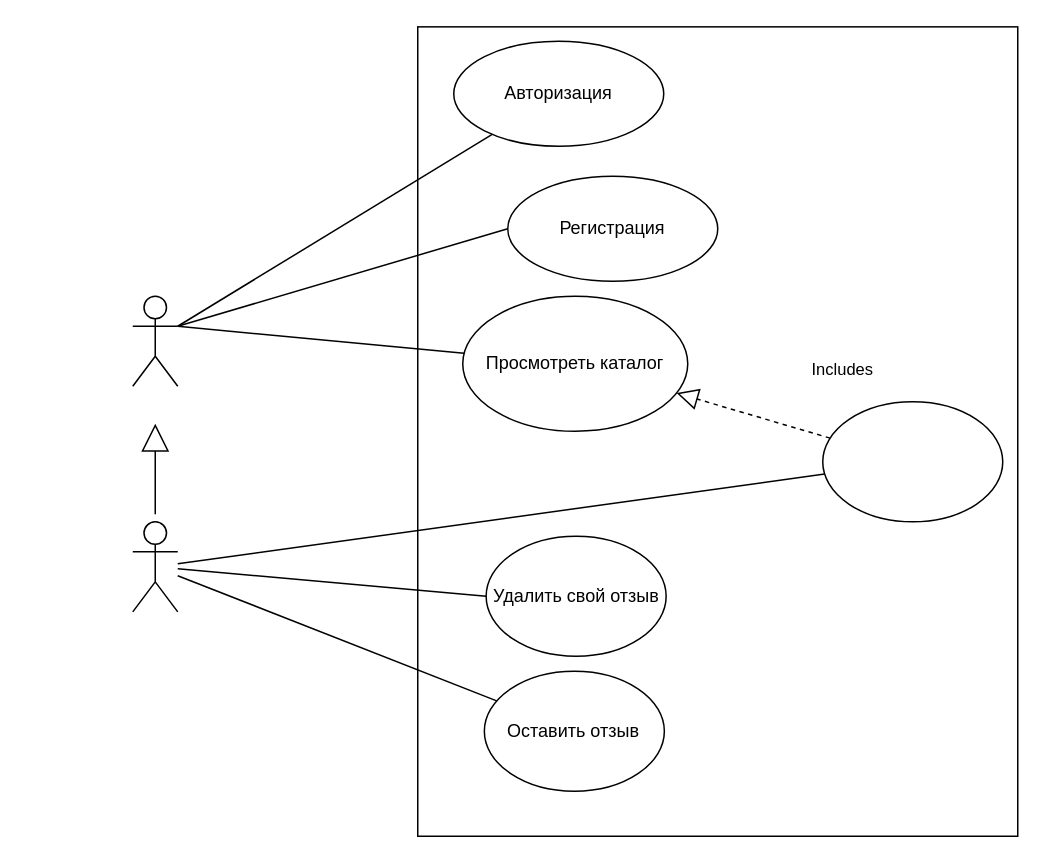
Image size: 1044x863. Some labels were removed from this diagram. Each missing label, with the centre of its shape:
Авторизованный пользователь: the point at 154,566
Получить список рекомендаций: the point at 912,461
Пользователь: the point at 154,340
